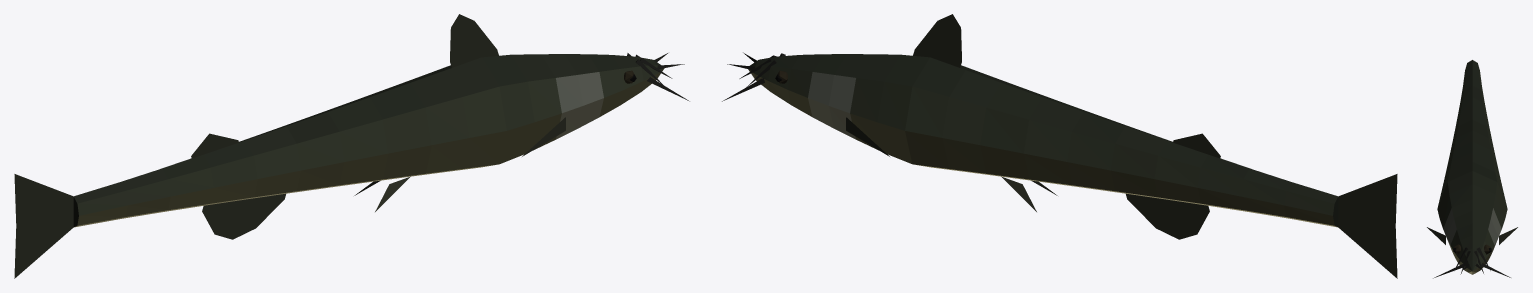
Rendered from black-bullhead.glb.
The picture shows the model from 3 angles, left to right: view 1: azimuth 30°, elevation 25°; view 2: azimuth 150°, elevation 25°; view 3: azimuth 270°, elevation 25°; orthographic projection. The views are drawn at different scales.
Visible parts, largest first — view 1: black-bullhead; view 2: black-bullhead; view 3: black-bullhead.
Boxes of the visible parts, box(x1,y1,x2,y2) form: black-bullhead: box(14, 14, 689, 278); black-bullhead: box(722, 14, 1397, 278); black-bullhead: box(1427, 60, 1517, 278).
Bounding box in the file's own units: 1.12 × 0.2755 × 0.1955.
